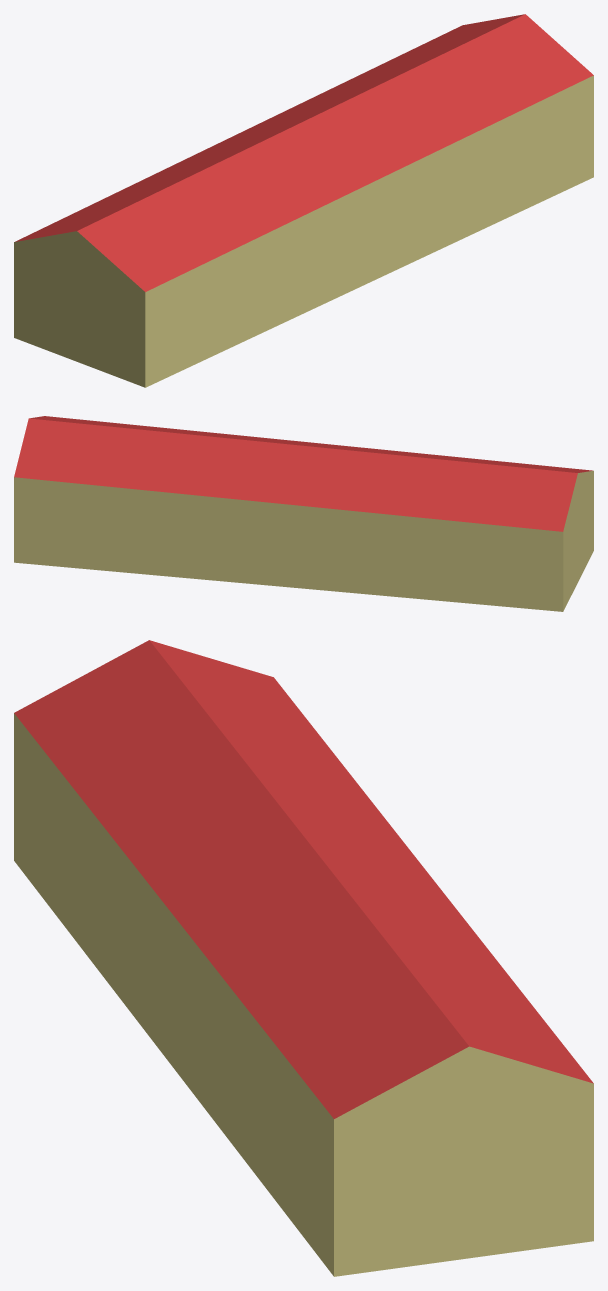
3 renders of one model, top to bottom at view 1: azimuth 30°, elevation 25°; view 2: azimuth 150°, elevation 25°; view 3: azimuth 270°, elevation 25°, orthographic. The views are drawn at different scales.
Bounding box in the file's own units: 31.43 × 17.05 × 6.87.
